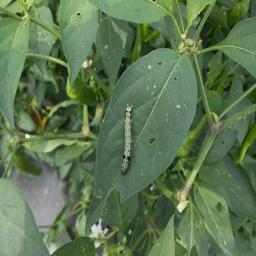Tobacco_budworm: (118, 103, 135, 175)
